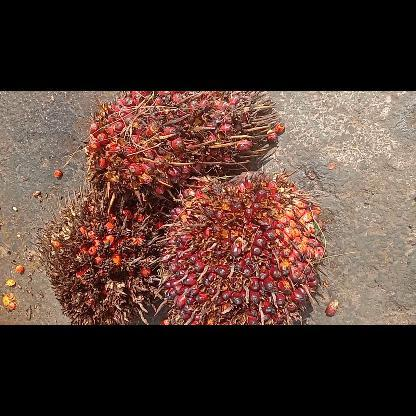TBS masak: (152, 172, 326, 324), (84, 91, 278, 213)
Terlalu masak: (28, 184, 164, 324)
